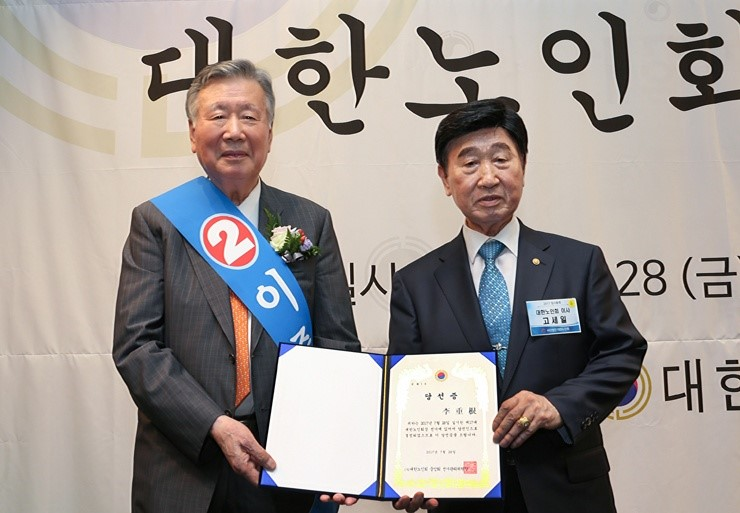face_no_mask: (432, 100, 530, 217), (184, 60, 276, 181)
